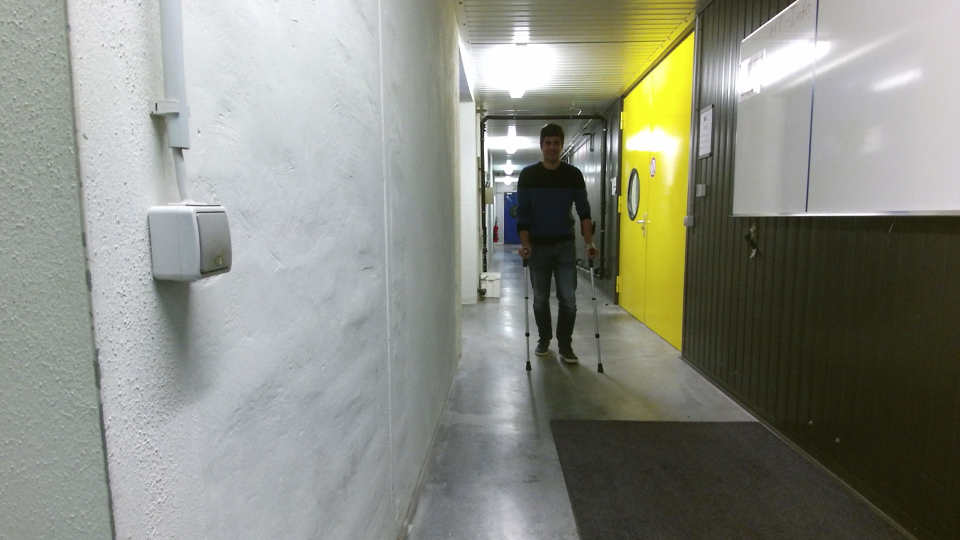crutches: (512, 116, 610, 380)
